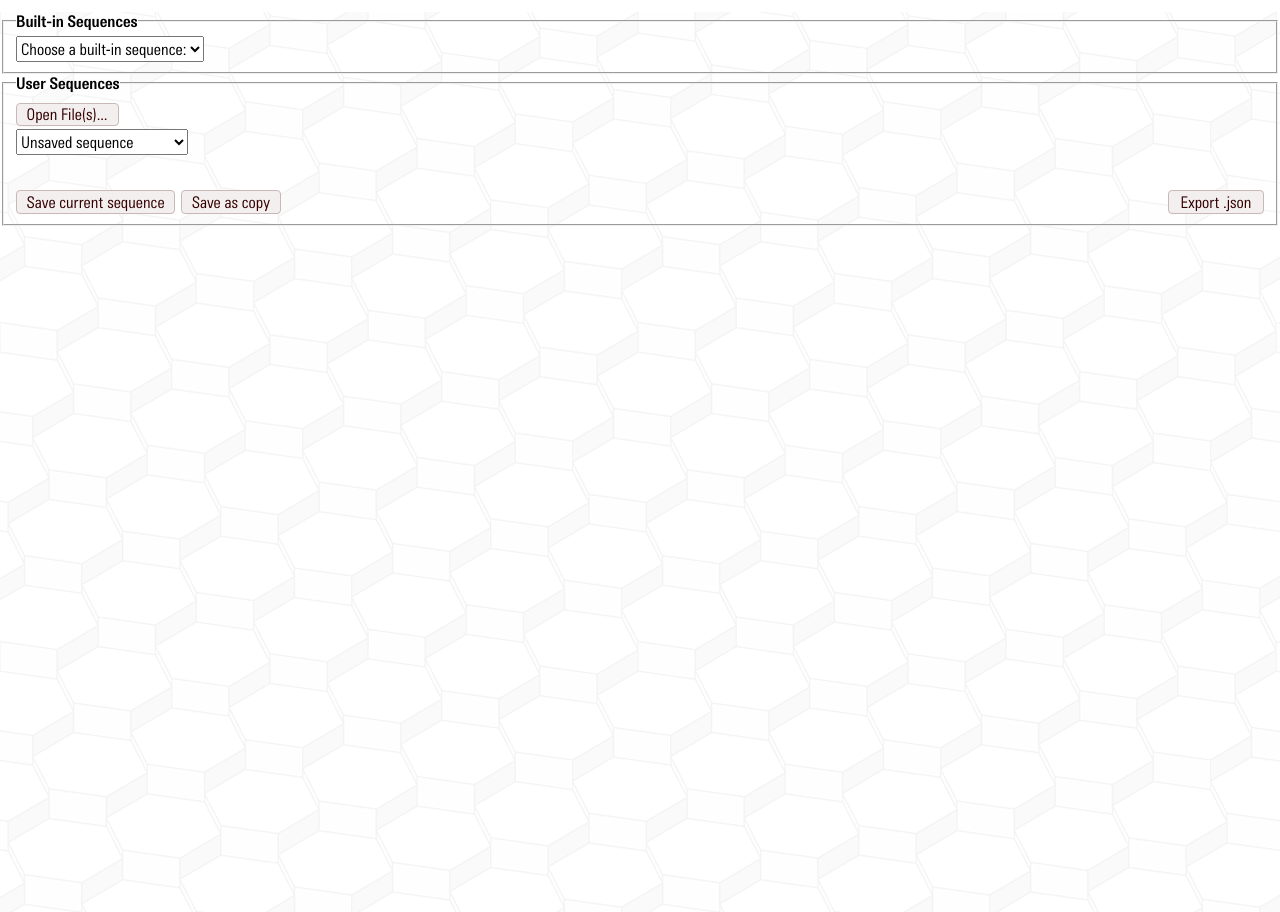
Scenario: SequenceLibrary › saves a named sequence with metadata and no snapshots
Click the button "Save current sequence" at (96, 202), box [16,190,175,214]
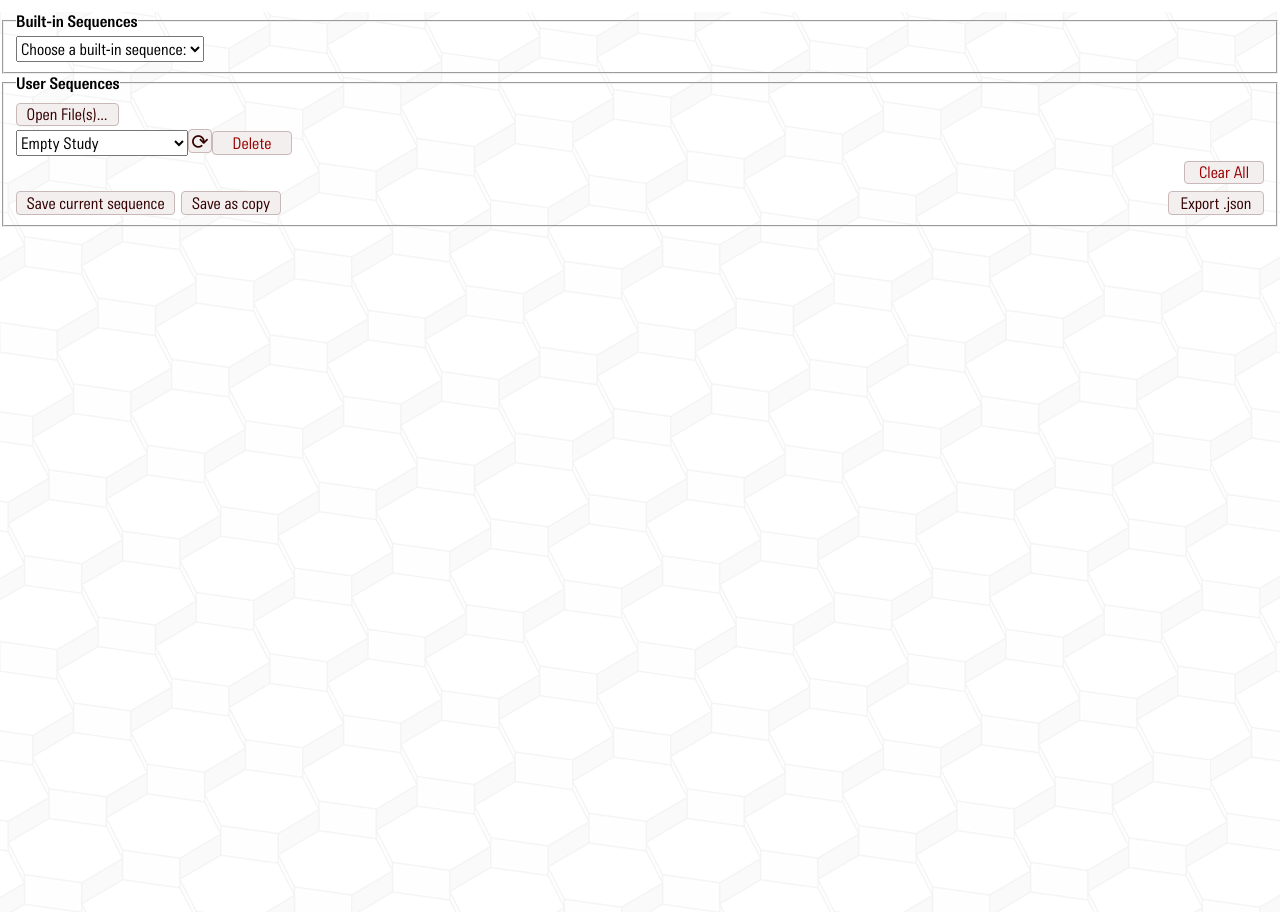
Check: the dropdown named "User sequences" shows "Empty Study", box [16,130,188,156]
